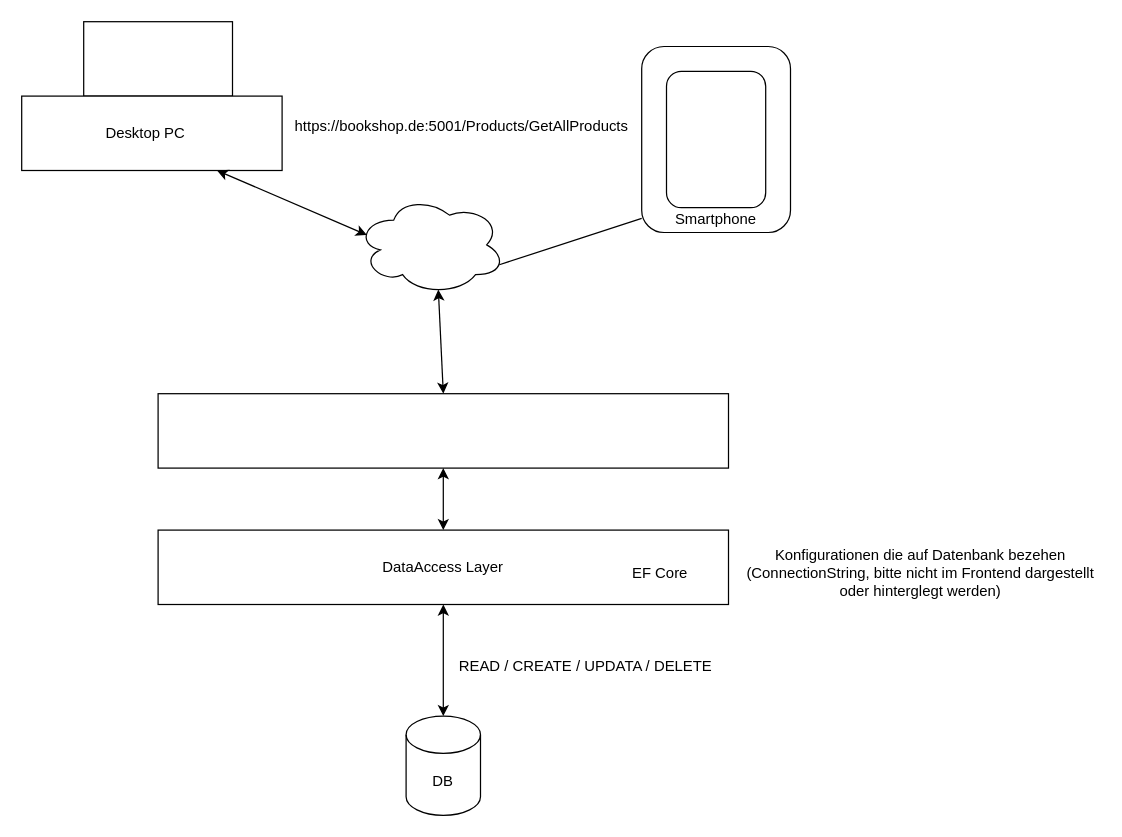
Some shapes in this 1122 by 837 pixel diagram are drawn without their labels. Here are the shapes that lost their labels. From the top down, the centre of each, then its label:
At [430,244]: "Internet".
At [442,430]: "Service Layer / Business ( Geschäftsregeln / Workflows)".
